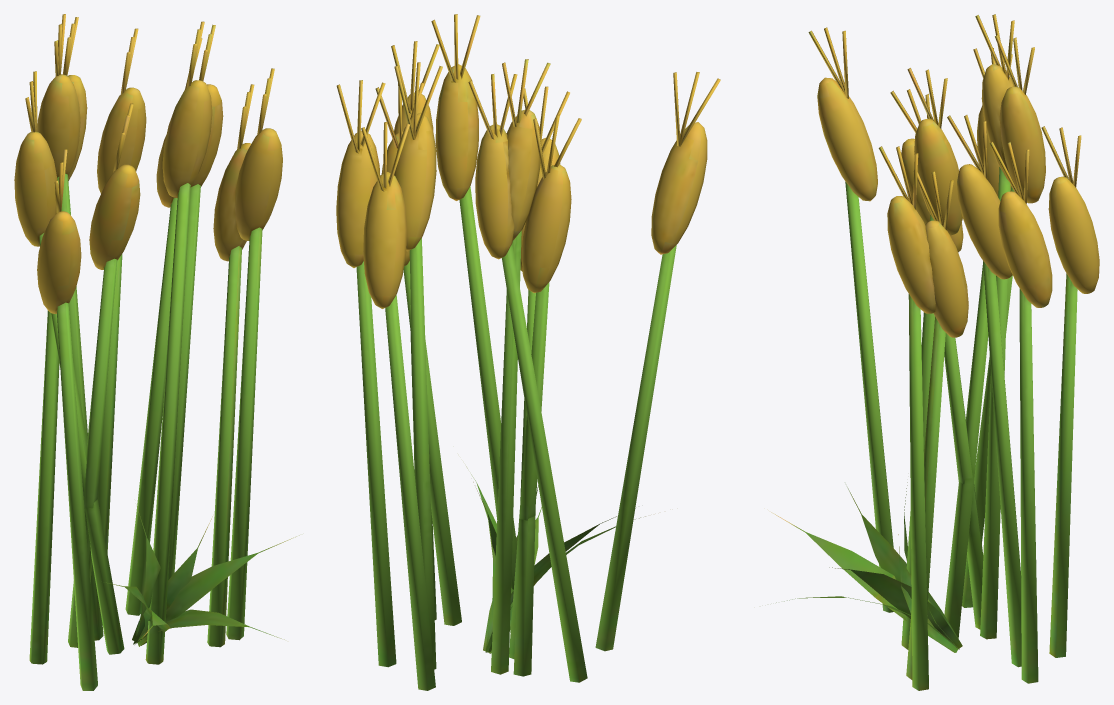
File: crop_wheat.glb
3 views of the same model, side by side, from view 1: azimuth 30°, elevation 25°; view 2: azimuth 150°, elevation 25°; view 3: azimuth 270°, elevation 25° (orthographic). The views are drawn at different scales.
Parts seen in each view (by area): view 1: crop_wheat, fruit; view 2: crop_wheat, fruit; view 3: crop_wheat, fruit.
Boxes of the visible parts, <box> form: crop_wheat: <box>29,173,299,690</box>; fruit: <box>14,14,282,313</box>; crop_wheat: <box>356,186,676,690</box>; fruit: <box>336,14,720,308</box>; crop_wheat: <box>771,167,1077,690</box>; fruit: <box>808,14,1099,337</box>.
Bounding box in the file's own units: 0.2041 × 0.4404 × 0.2293.
Materials: 1 (1 with a texture image).
